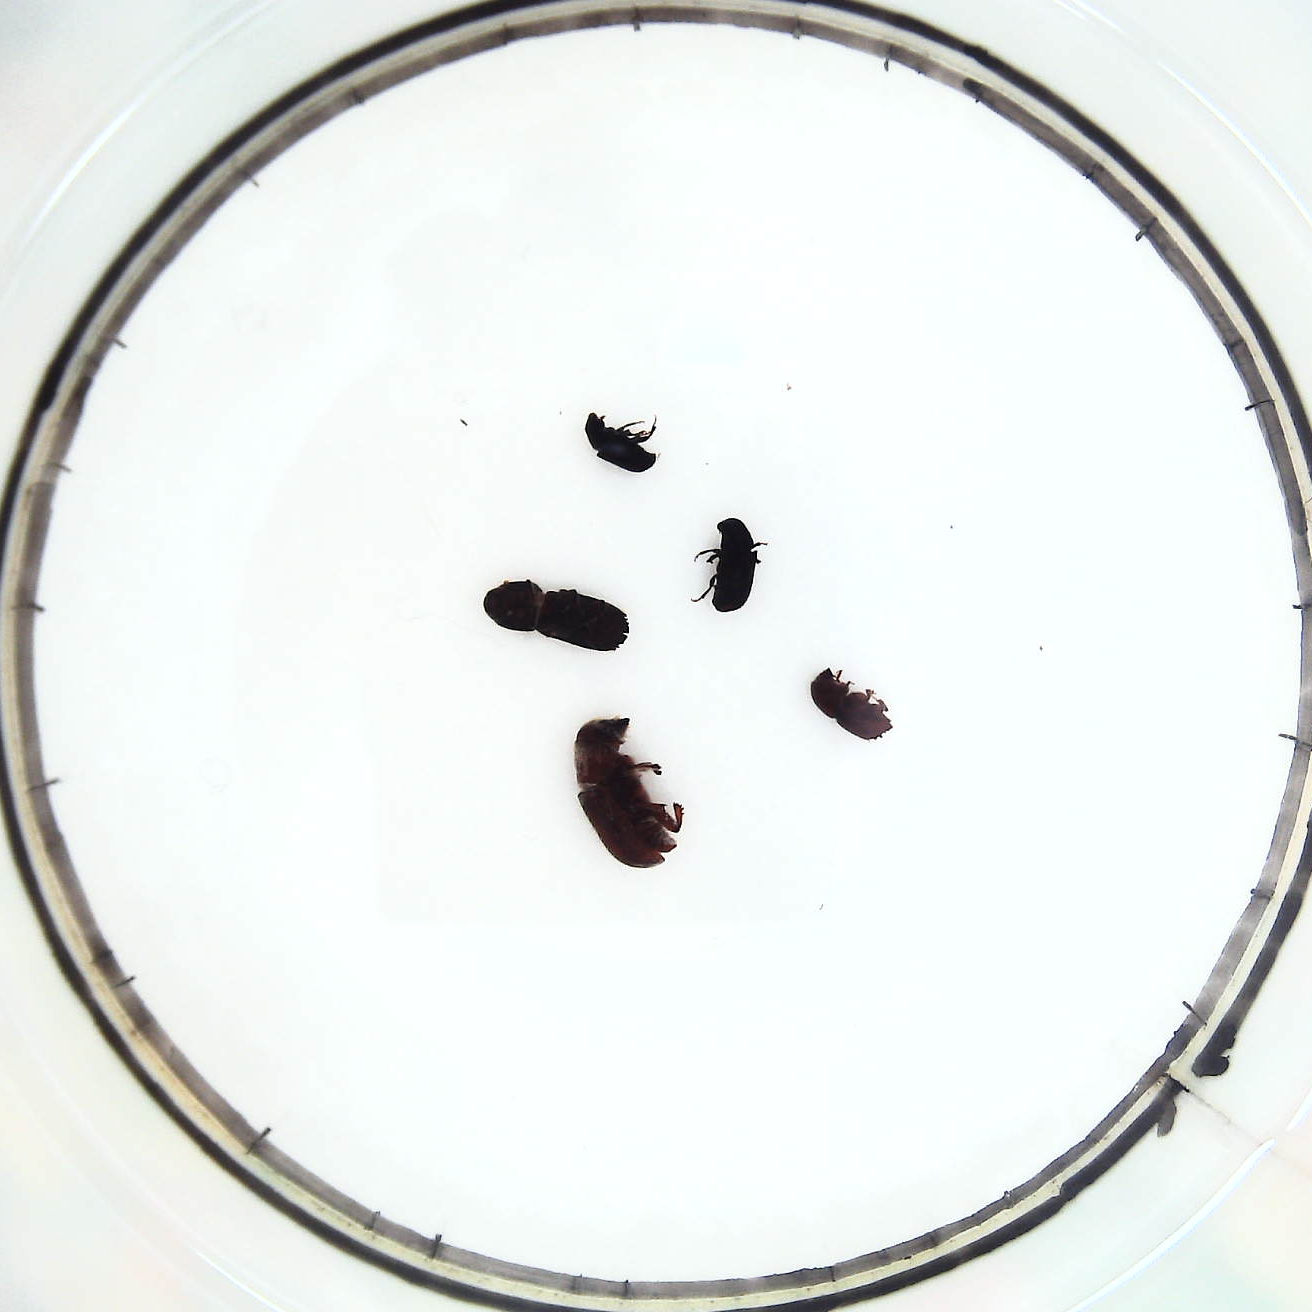Boerner: (478, 576, 634, 662)
Leconte: (573, 712, 690, 871)
armandi: (688, 513, 768, 613)
coleoptera: (580, 406, 663, 481)
linnaeus: (807, 664, 897, 745)
